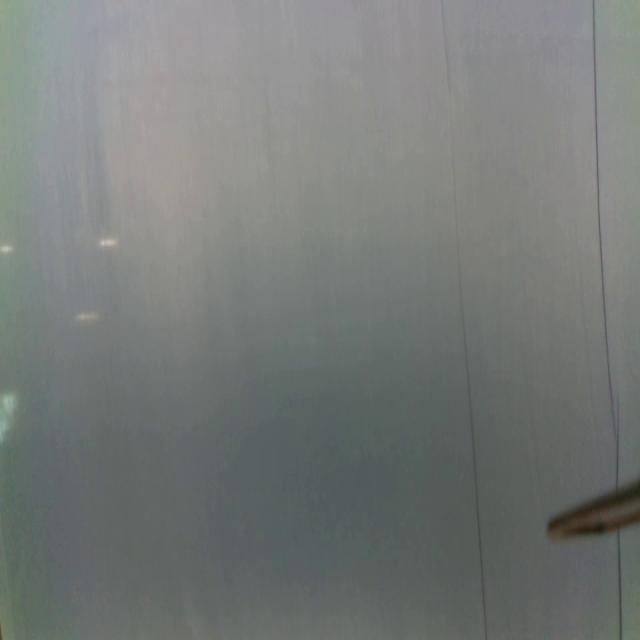crease: (440, 0, 490, 640), (590, 1, 625, 481), (615, 526, 626, 640)
